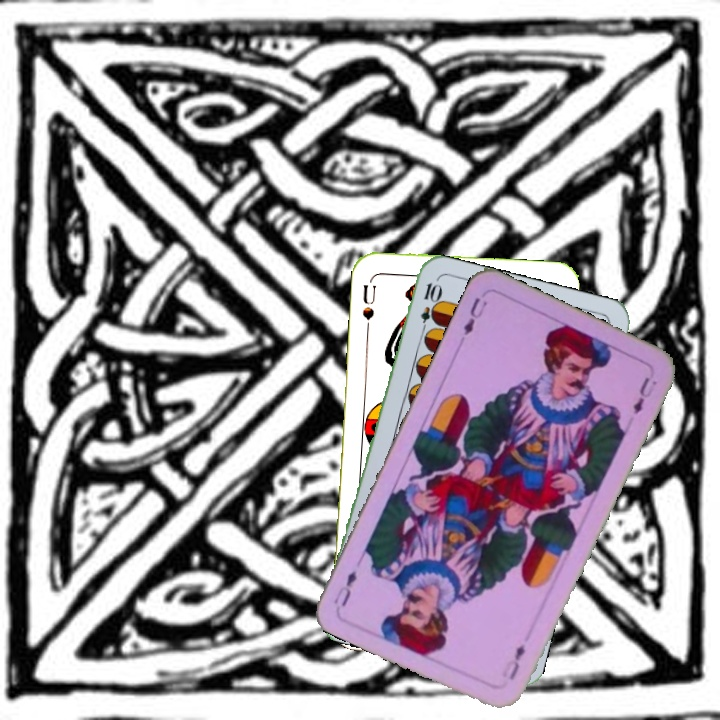E10: (416, 279, 442, 338)
EU: (459, 293, 490, 339), (497, 640, 529, 683)
SU: (358, 275, 379, 334)
